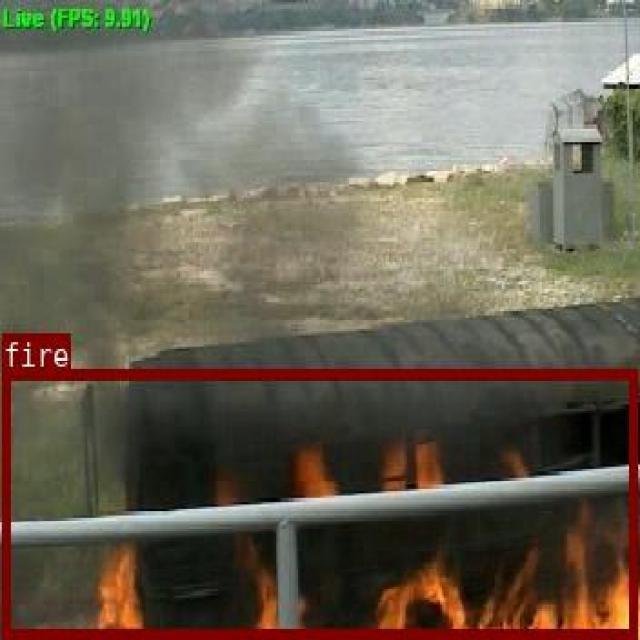fire: (0, 369, 635, 636)
